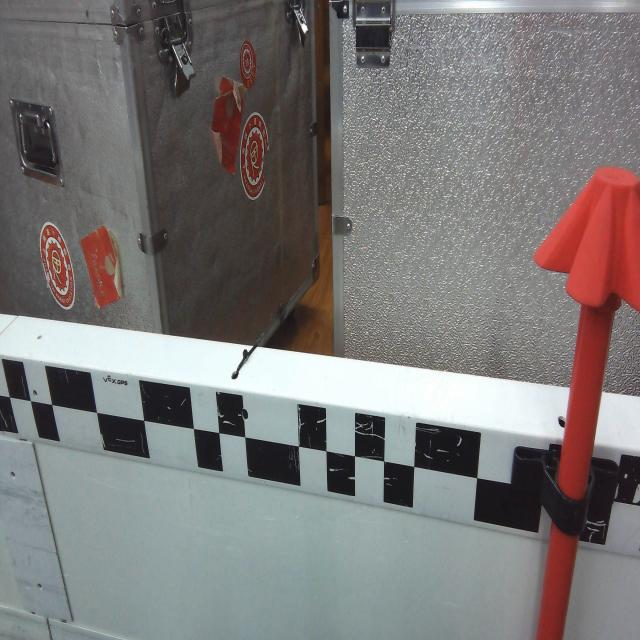zred-Stake-Head: (533, 165, 640, 313)
